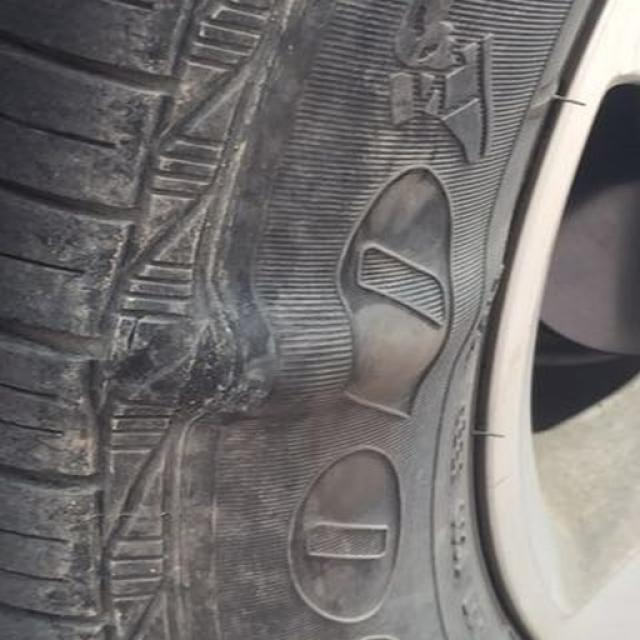Bulge: (102, 276, 495, 416)
